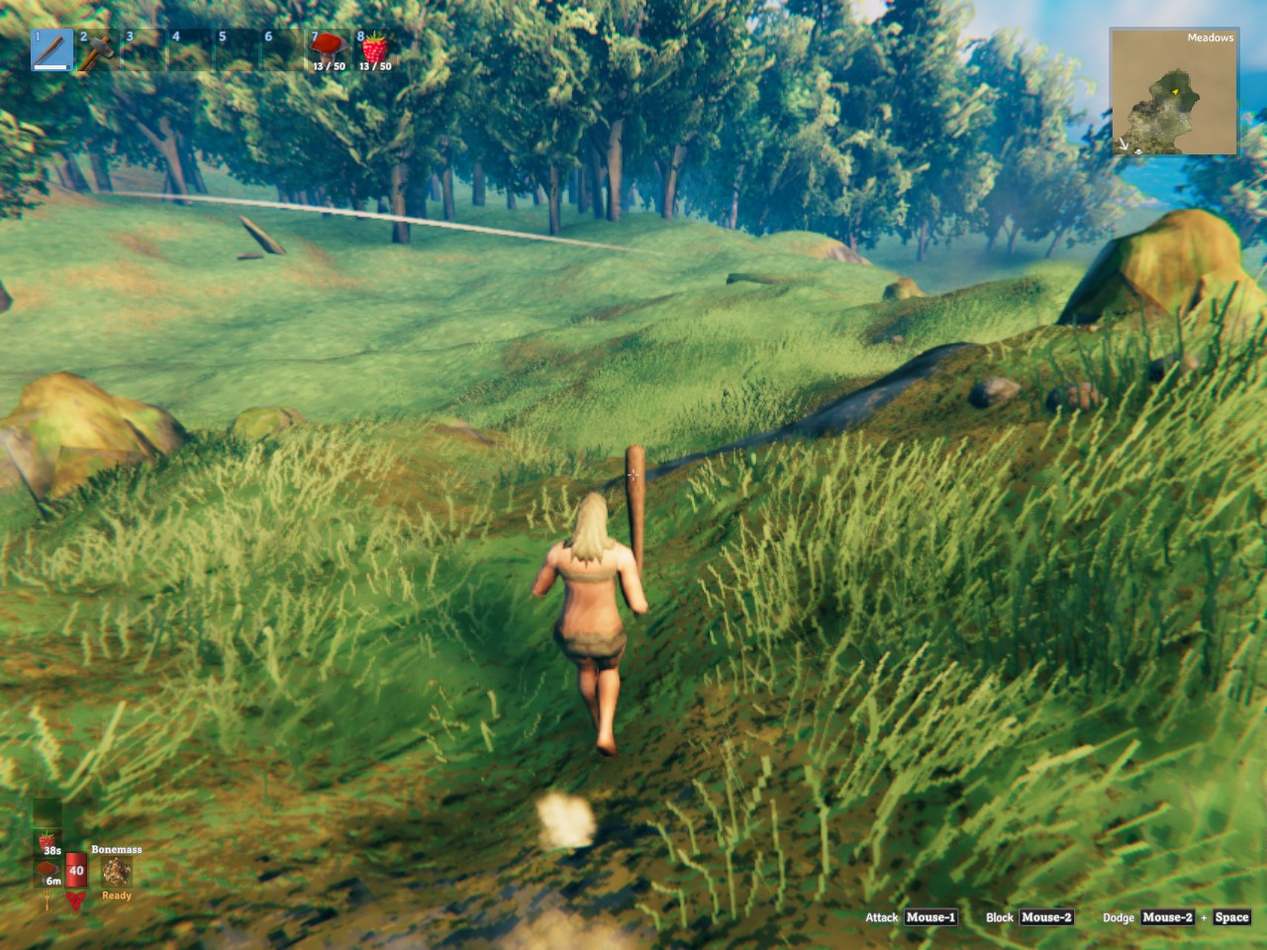Stone: (1045, 382, 1102, 412), (968, 377, 1020, 408), (1149, 352, 1200, 381)
